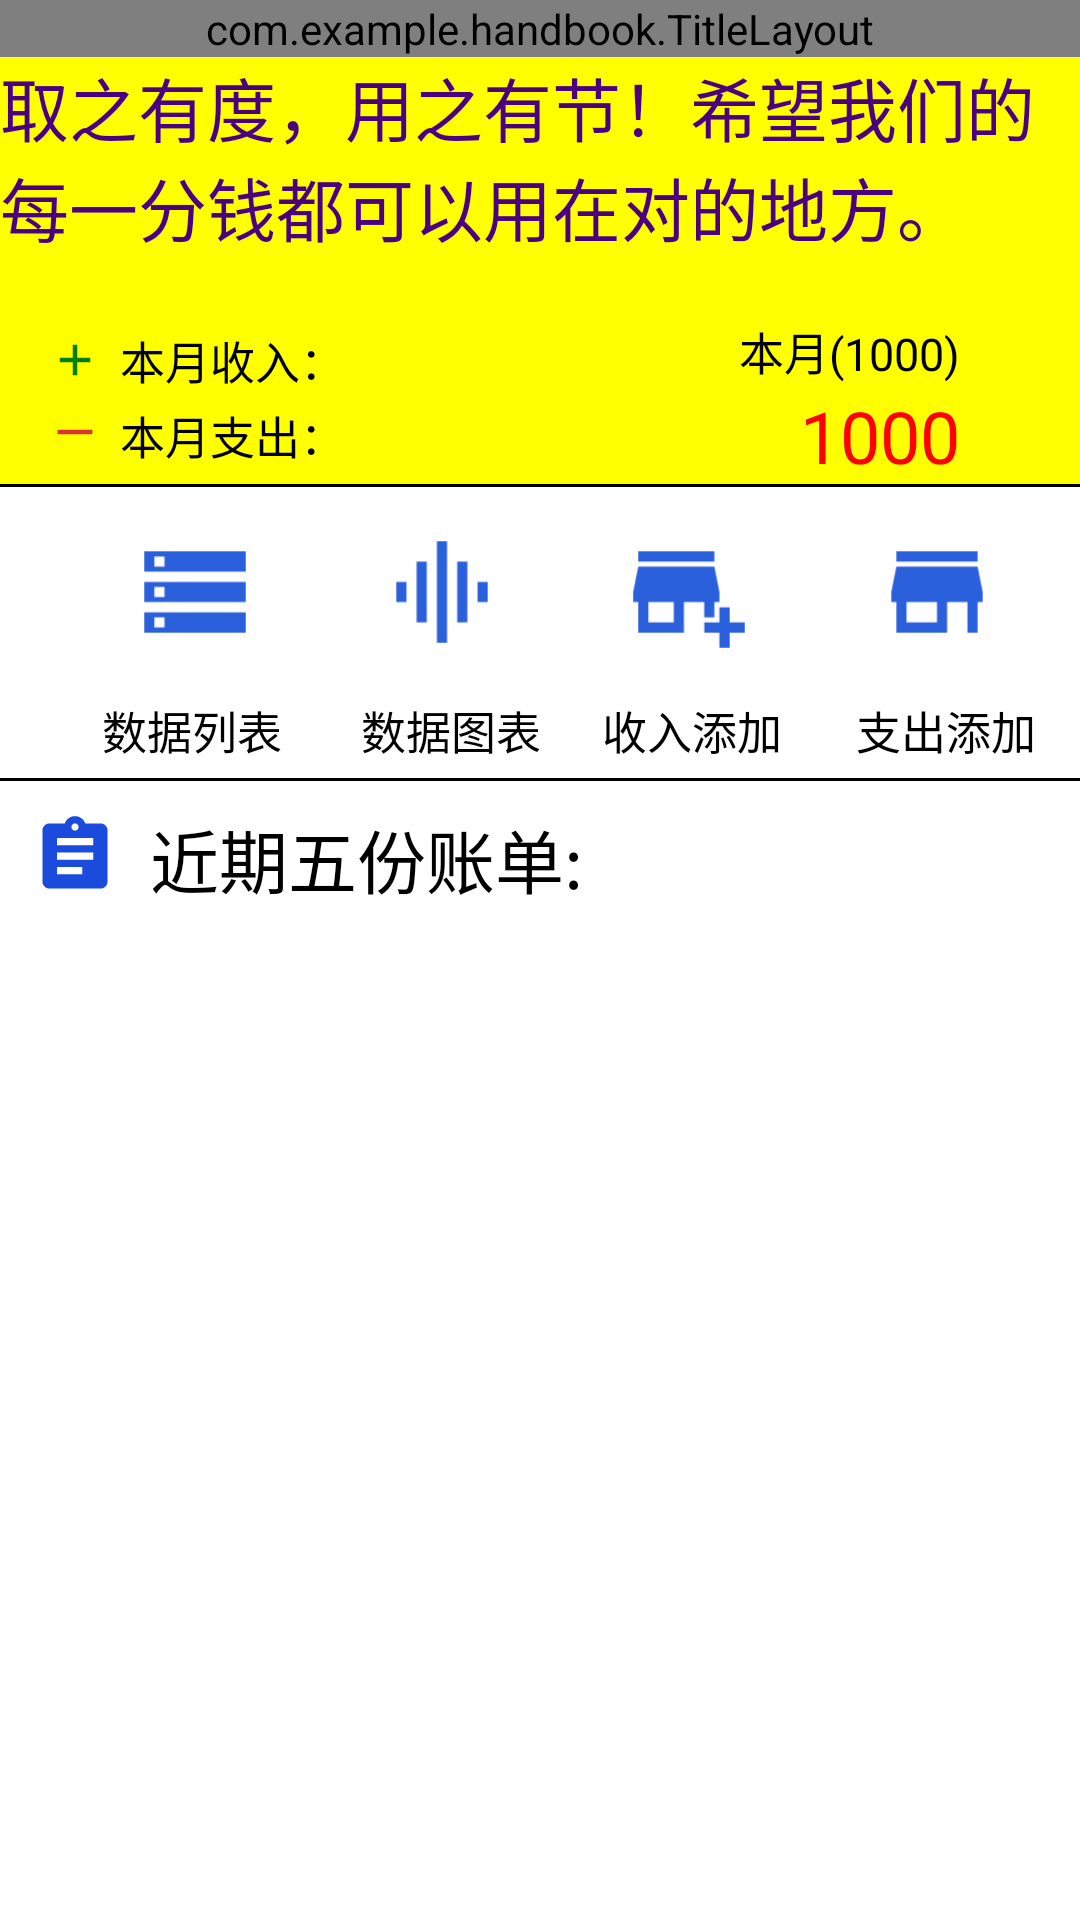

Named icons in this screenshot (1080 x 1920) and their centers, [x,y]:
bill titile: [75,852]
datagraph: [442,592]
datalist: [195,592]
expense: [75,432]
income: [75,360]
